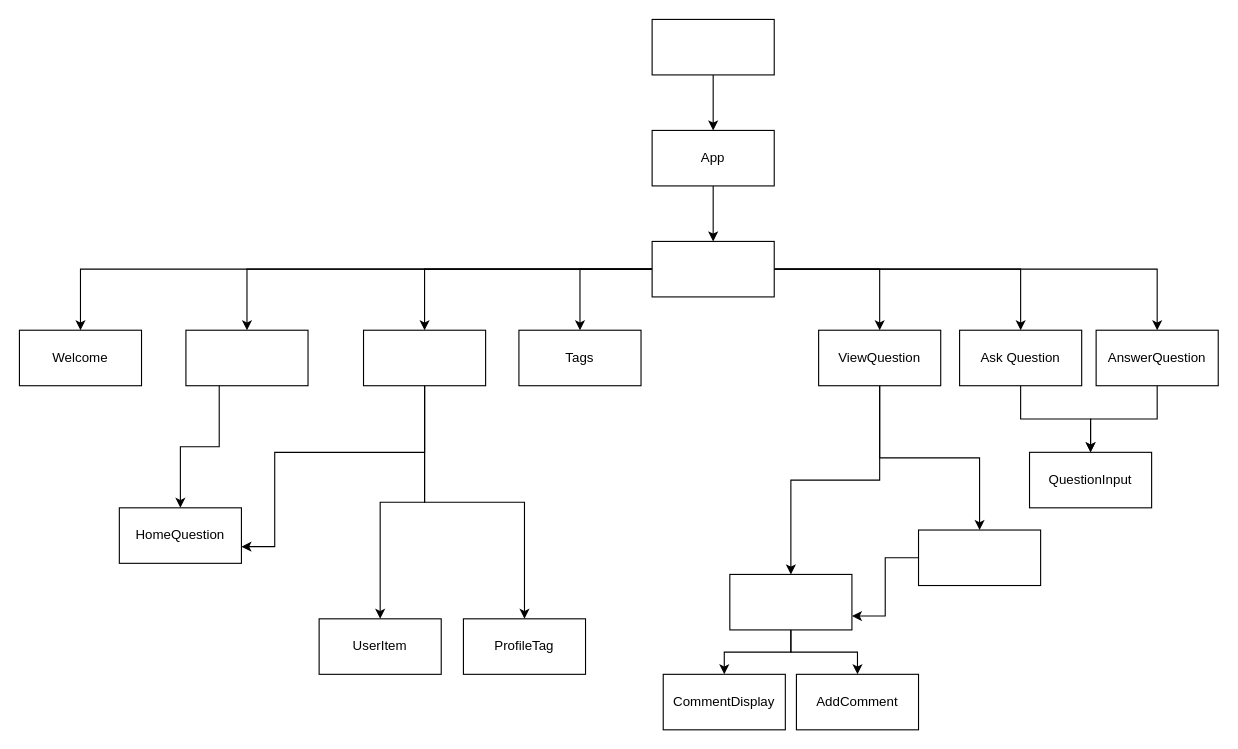
The diagram is 1238 pixels wide and 749 high, and some of its shapes have lost their labels. The shapes that lost their labels are listed below. From the top down, each one's box as (x1, y1, x2, y2) in pixels, then its label:
(651, 18, 774, 75): index.js
(651, 240, 774, 297): Fake Stack Overflow
(185, 329, 308, 386): Home
(362, 329, 486, 386): Profile
(917, 529, 1041, 586): Answer
(729, 573, 852, 630): CommentList
